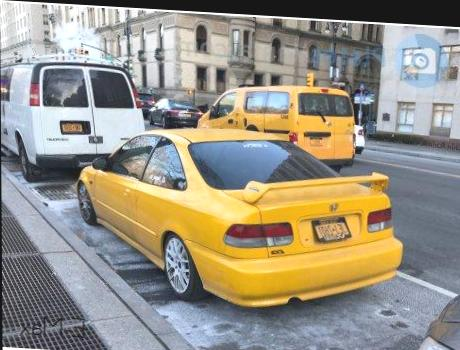License_Plate: (310, 209, 350, 248), (57, 120, 85, 135), (306, 134, 325, 148), (179, 112, 192, 118)
